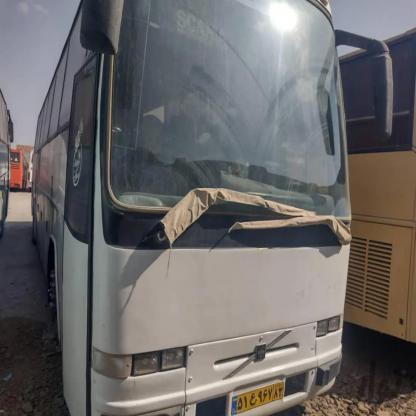Bus: (31, 0, 351, 416), (312, 29, 411, 372), (10, 155, 26, 192)
